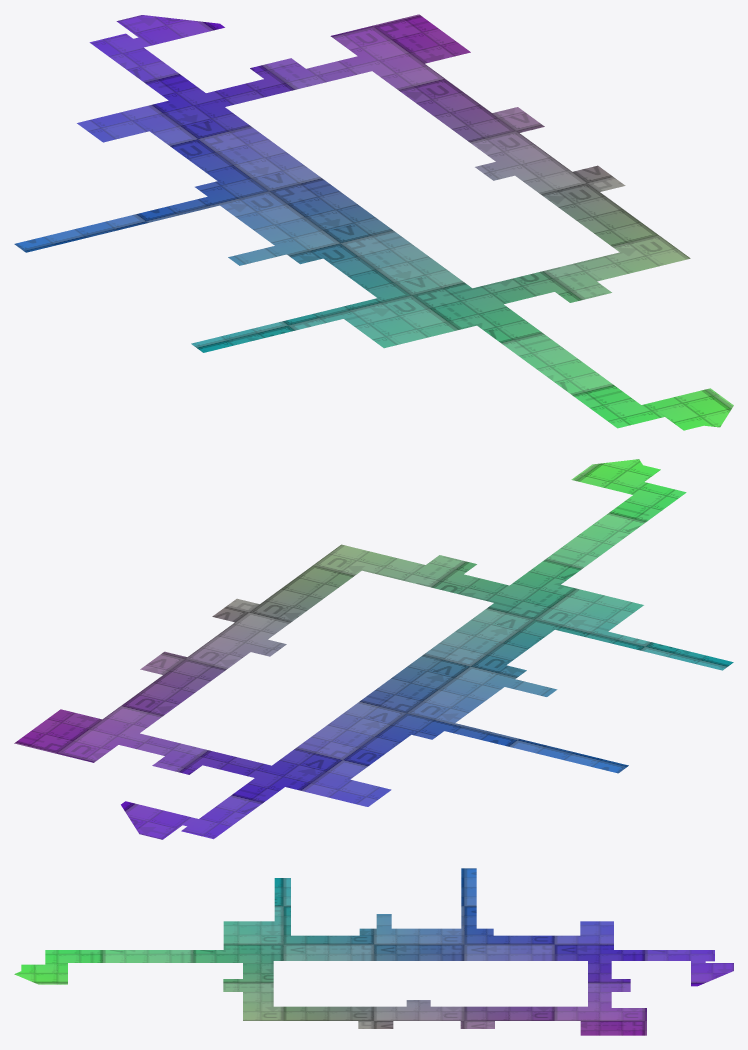
Rendered from Floor7Floor.fbx.
3 renders of one model, top to bottom at view 1: azimuth 30°, elevation 25°; view 2: azimuth 150°, elevation 25°; view 3: azimuth 270°, elevation 25°, orthographic. The views are drawn at different scales.
Parts seen in each view (by area): view 1: Floor7Floor; view 2: Floor7Floor; view 3: Floor7Floor.
Boxes of the visible parts, box(x1,y1,x2,y2) form: Floor7Floor: box(14, 14, 733, 430); Floor7Floor: box(14, 459, 733, 839); Floor7Floor: box(14, 868, 733, 1035).
Bounding box in the file's own units: 1318 × 0.00598 × 2401.
